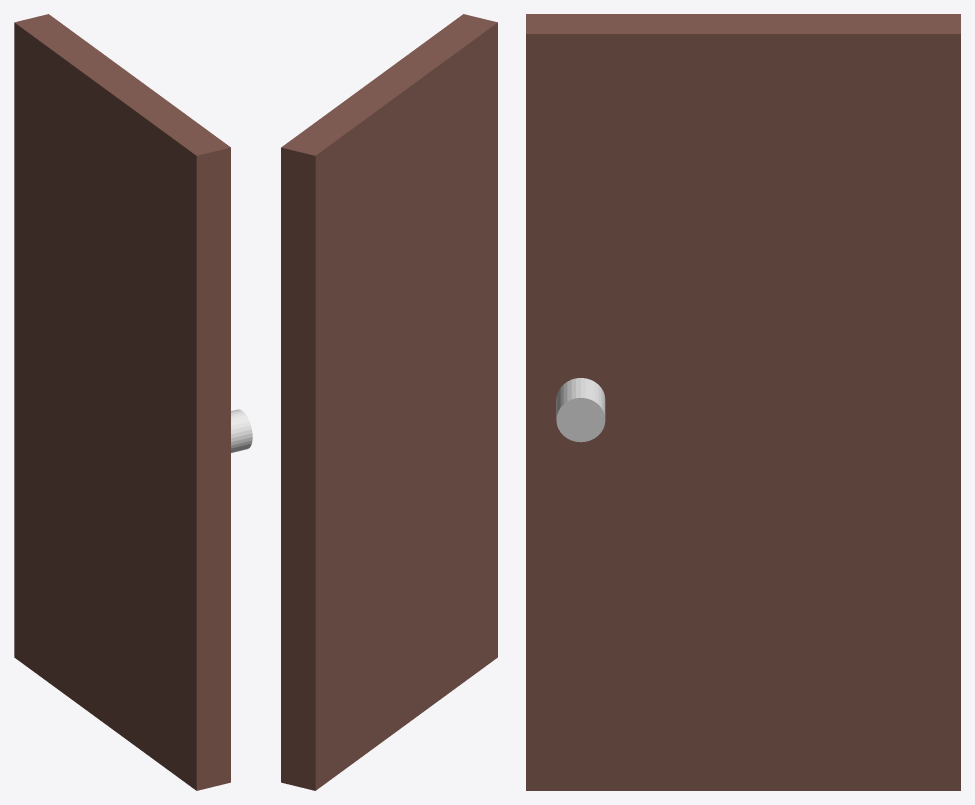
Rendered from PUERTA.fbx.
3 renders of one model, left to right at view 1: azimuth 30°, elevation 25°; view 2: azimuth 150°, elevation 25°; view 3: azimuth 270°, elevation 25°, orthographic. The views are drawn at different scales.
Visible parts, largest first — view 1: Cube; view 2: Cube; view 3: Cube.
Boxes of the visible parts, box(x1,y1,x2,y2) form: Cube: box(14, 14, 252, 790); Cube: box(281, 14, 497, 790); Cube: box(526, 14, 960, 790).
Size of the model in its own units: 62.42 by 551 by 287.
